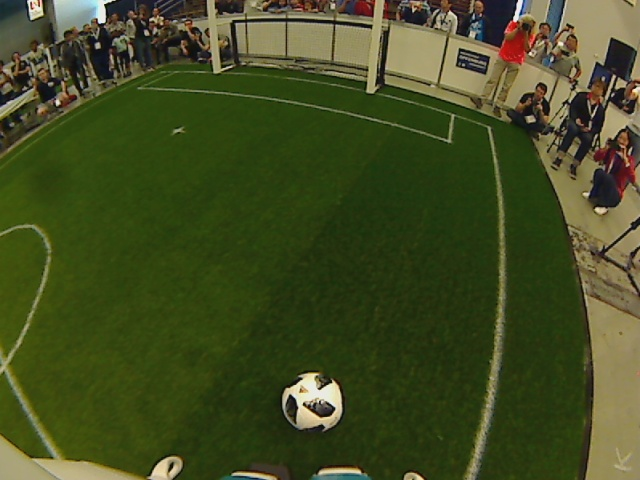ball: (278, 370, 344, 434)
